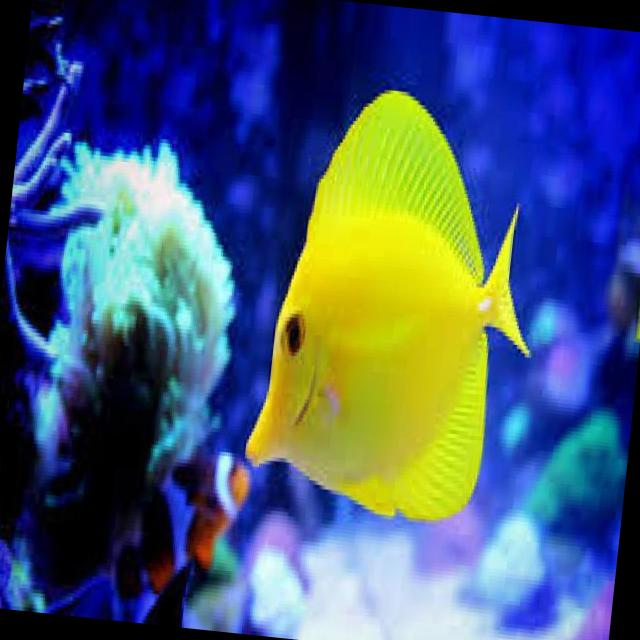TangFish: (235, 72, 554, 534)
